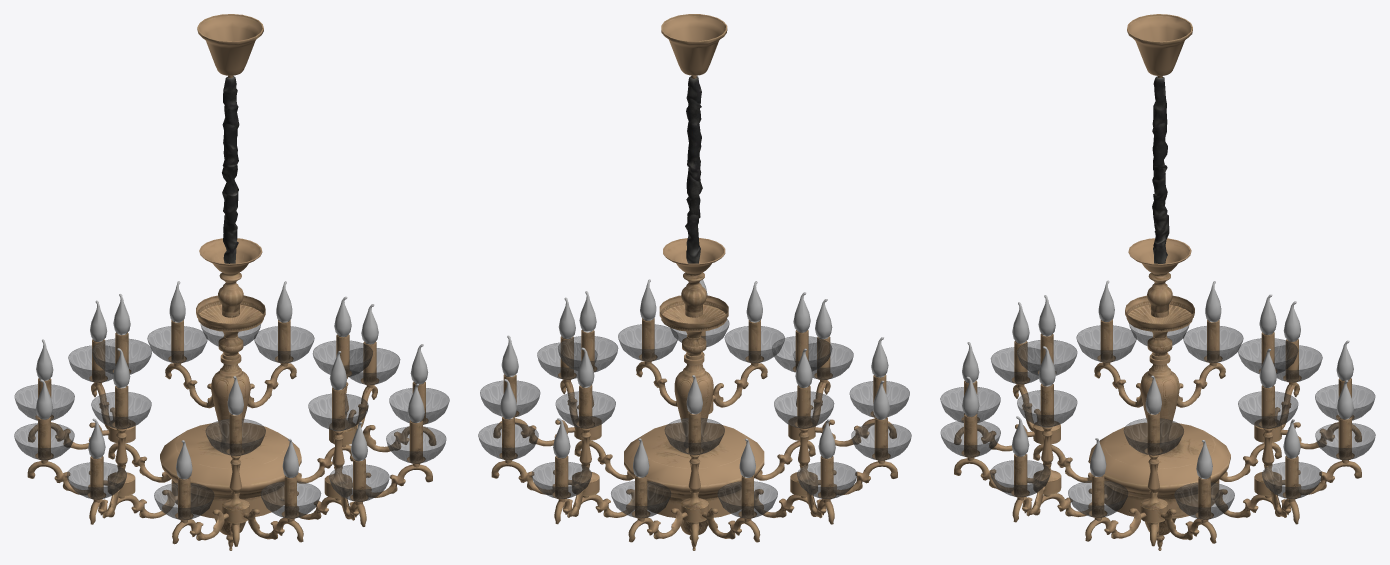
File: chandelier_03.glb
The picture shows the model from 3 angles, left to right: view 1: azimuth 30°, elevation 25°; view 2: azimuth 150°, elevation 25°; view 3: azimuth 270°, elevation 25°; orthographic projection.
Parts seen in each view (by area): view 1: Chandelier_03; view 2: Chandelier_03; view 3: Chandelier_03.
Boxes of the visible parts, x1,y1,x2,y2 form: Chandelier_03: (14,14,449,550); Chandelier_03: (478,14,911,550); Chandelier_03: (940,14,1375,550).
Size of the model in its own units: 0.7804 by 1.04 by 0.7855.
Materials: 2 (2 with a texture image).
